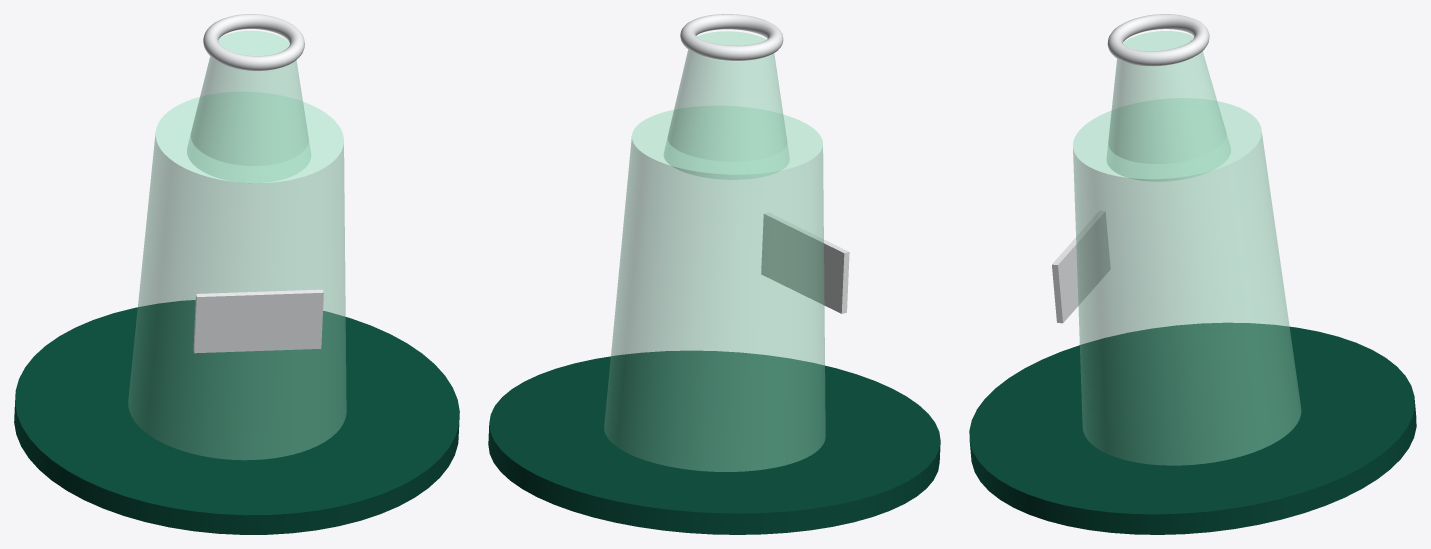
Rendered from Glass.glb.
3 renders of one model, left to right at view 1: azimuth 30°, elevation 25°; view 2: azimuth 150°, elevation 25°; view 3: azimuth 270°, elevation 25°, orthographic.
Bounding box in the file's own units: 2.36 × 2.48 × 2.36.
